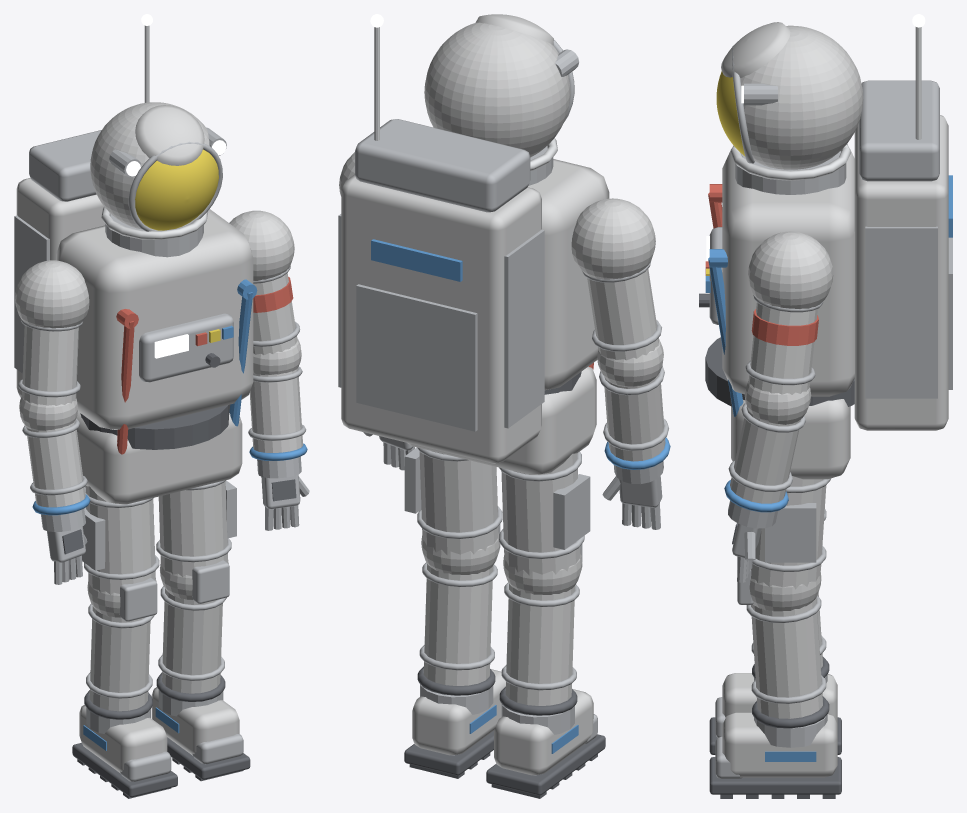
File: player_astronaut.glb
3 renders of one model, left to right at view 1: azimuth 30°, elevation 25°; view 2: azimuth 150°, elevation 25°; view 3: azimuth 270°, elevation 25°, orthographic. The views are drawn at different scales.
Visible parts, largest first — view 1: astronaut-standing; view 2: astronaut-standing; view 3: astronaut-standing.
Boxes of the visible parts, left/top/right/bottom form: astronaut-standing: left=14, top=14, right=309, bottom=798; astronaut-standing: left=338, top=14, right=670, bottom=798; astronaut-standing: left=699, top=14, right=952, bottom=798.
Size of the model in its own units: 0.8361 by 2.02 by 0.595.
